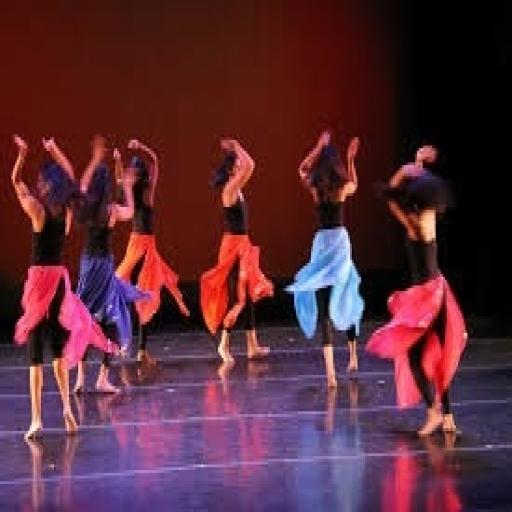dancing: (22, 74, 182, 421), (365, 137, 471, 442), (283, 118, 367, 394), (198, 132, 278, 370)
